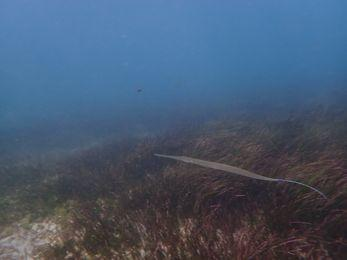Fistularia commersonii: (131, 145, 333, 213)
